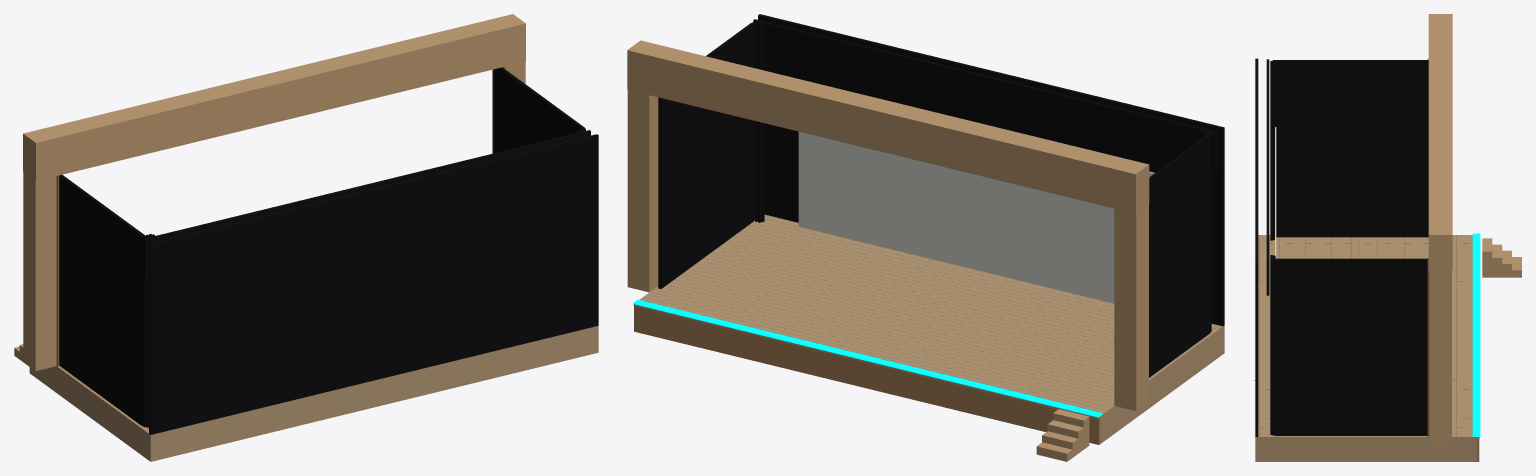
The model's file is small-auditorium-stage.glb.
3 renders of one model, left to right at view 1: azimuth 30°, elevation 25°; view 2: azimuth 150°, elevation 25°; view 3: azimuth 270°, elevation 25°, orthographic. The views are drawn at different scales.
Visible parts, largest first — view 1: Stage | rear black curtain, Proscenium | timber header, Stage | black side masking -1, Stage | platform, Proscenium | right pier, Stage | black side masking 1, Stage | upper black masking, Proscenium | reveal -1; view 2: Stage | platform, Stage | projection screen, Proscenium | timber header, Stage | upper black masking, Stage | black side masking 1, Stage | rear black curtain, Stage | black side masking -1, Stage | front timber fascia, Proscenium | right pier, Proscenium | left pier, Stage | boundary marker, Stage | front nosing; view 3: Stage | black side masking -1, Stage | black side masking 1, Stage | platform, Proscenium | timber header, Proscenium | left pier, Stage | boundary marker, Stage | rear black curtain, Stage | upper black masking, Stage | curtain fold 1-0, Stage | curtain fold -1-5, Stage | curtain fold 1-1, Proscenium | reveal 1 (+3 smaller).
Part boxes in pixels (box(x1,y1,x2,y2)): Stage | rear black curtain: box(149, 134, 598, 434); Proscenium | timber header: box(23, 14, 525, 180); Stage | black side masking -1: box(59, 174, 144, 426); Stage | platform: box(31, 326, 598, 461); Proscenium | right pier: box(23, 172, 56, 370); Stage | black side masking 1: box(493, 67, 585, 153); Stage | upper black masking: box(144, 130, 590, 277); Proscenium | reveal -1: box(56, 175, 59, 366); Stage | platform: box(639, 214, 1224, 443); Stage | projection screen: box(798, 131, 1154, 303); Proscenium | timber header: box(627, 40, 1149, 213); Stage | upper black masking: box(753, 19, 1216, 172); Stage | black side masking 1: box(658, 23, 753, 288); Stage | rear black curtain: box(758, 14, 1224, 326); Stage | black side masking -1: box(1149, 134, 1210, 377); Stage | front timber fascia: box(634, 306, 1100, 444); Proscenium | right pier: box(1114, 204, 1148, 410); Proscenium | left pier: box(627, 90, 658, 292); Stage | boundary marker: box(633, 299, 1102, 417); Stage | front nosing: box(633, 304, 1101, 419); Stage | black side masking -1: box(1275, 60, 1428, 237); Stage | black side masking 1: box(1275, 258, 1428, 435); Stage | platform: box(1255, 235, 1476, 461); Proscenium | timber header: box(1428, 14, 1452, 270); Proscenium | left pier: box(1429, 270, 1451, 446); Stage | boundary marker: box(1472, 233, 1480, 436); Stage | rear black curtain: box(1255, 58, 1258, 436); Stage | upper black masking: box(1266, 59, 1269, 295); Stage | curtain fold 1-0: box(1272, 258, 1275, 435); Stage | curtain fold -1-5: box(1270, 63, 1273, 240); Stage | curtain fold 1-1: box(1270, 258, 1273, 434); Proscenium | reveal 1: box(1427, 260, 1429, 436).
Size of the model in its own units: 17.5 by 8.76 by 8.99.
